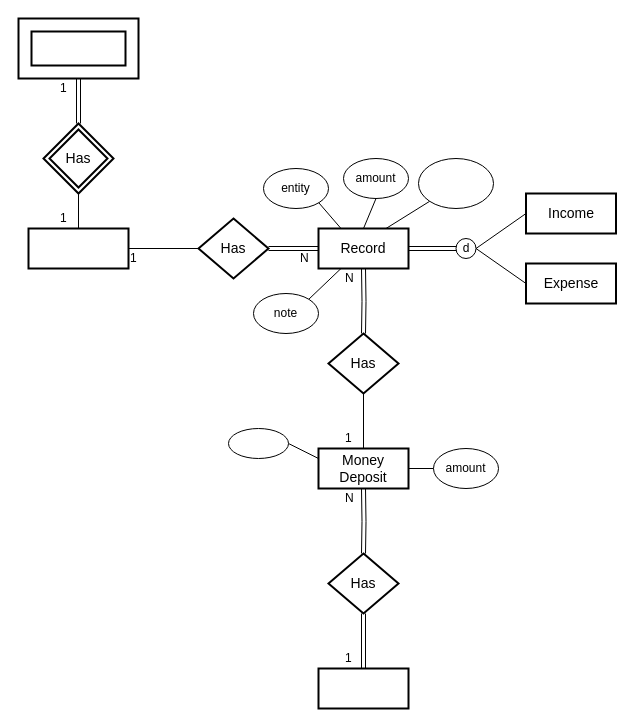
Some shapes in this 634 by 726 pixel diagram are drawn without their labels. The shapes that lost their labels are listed below. From the top down, each one's centre as x and y in pixels, then its label:
(x=78, y=48): Subcategory
(x=456, y=183): datetime
(x=78, y=248): Category
(x=258, y=443): name
(x=363, y=688): User
